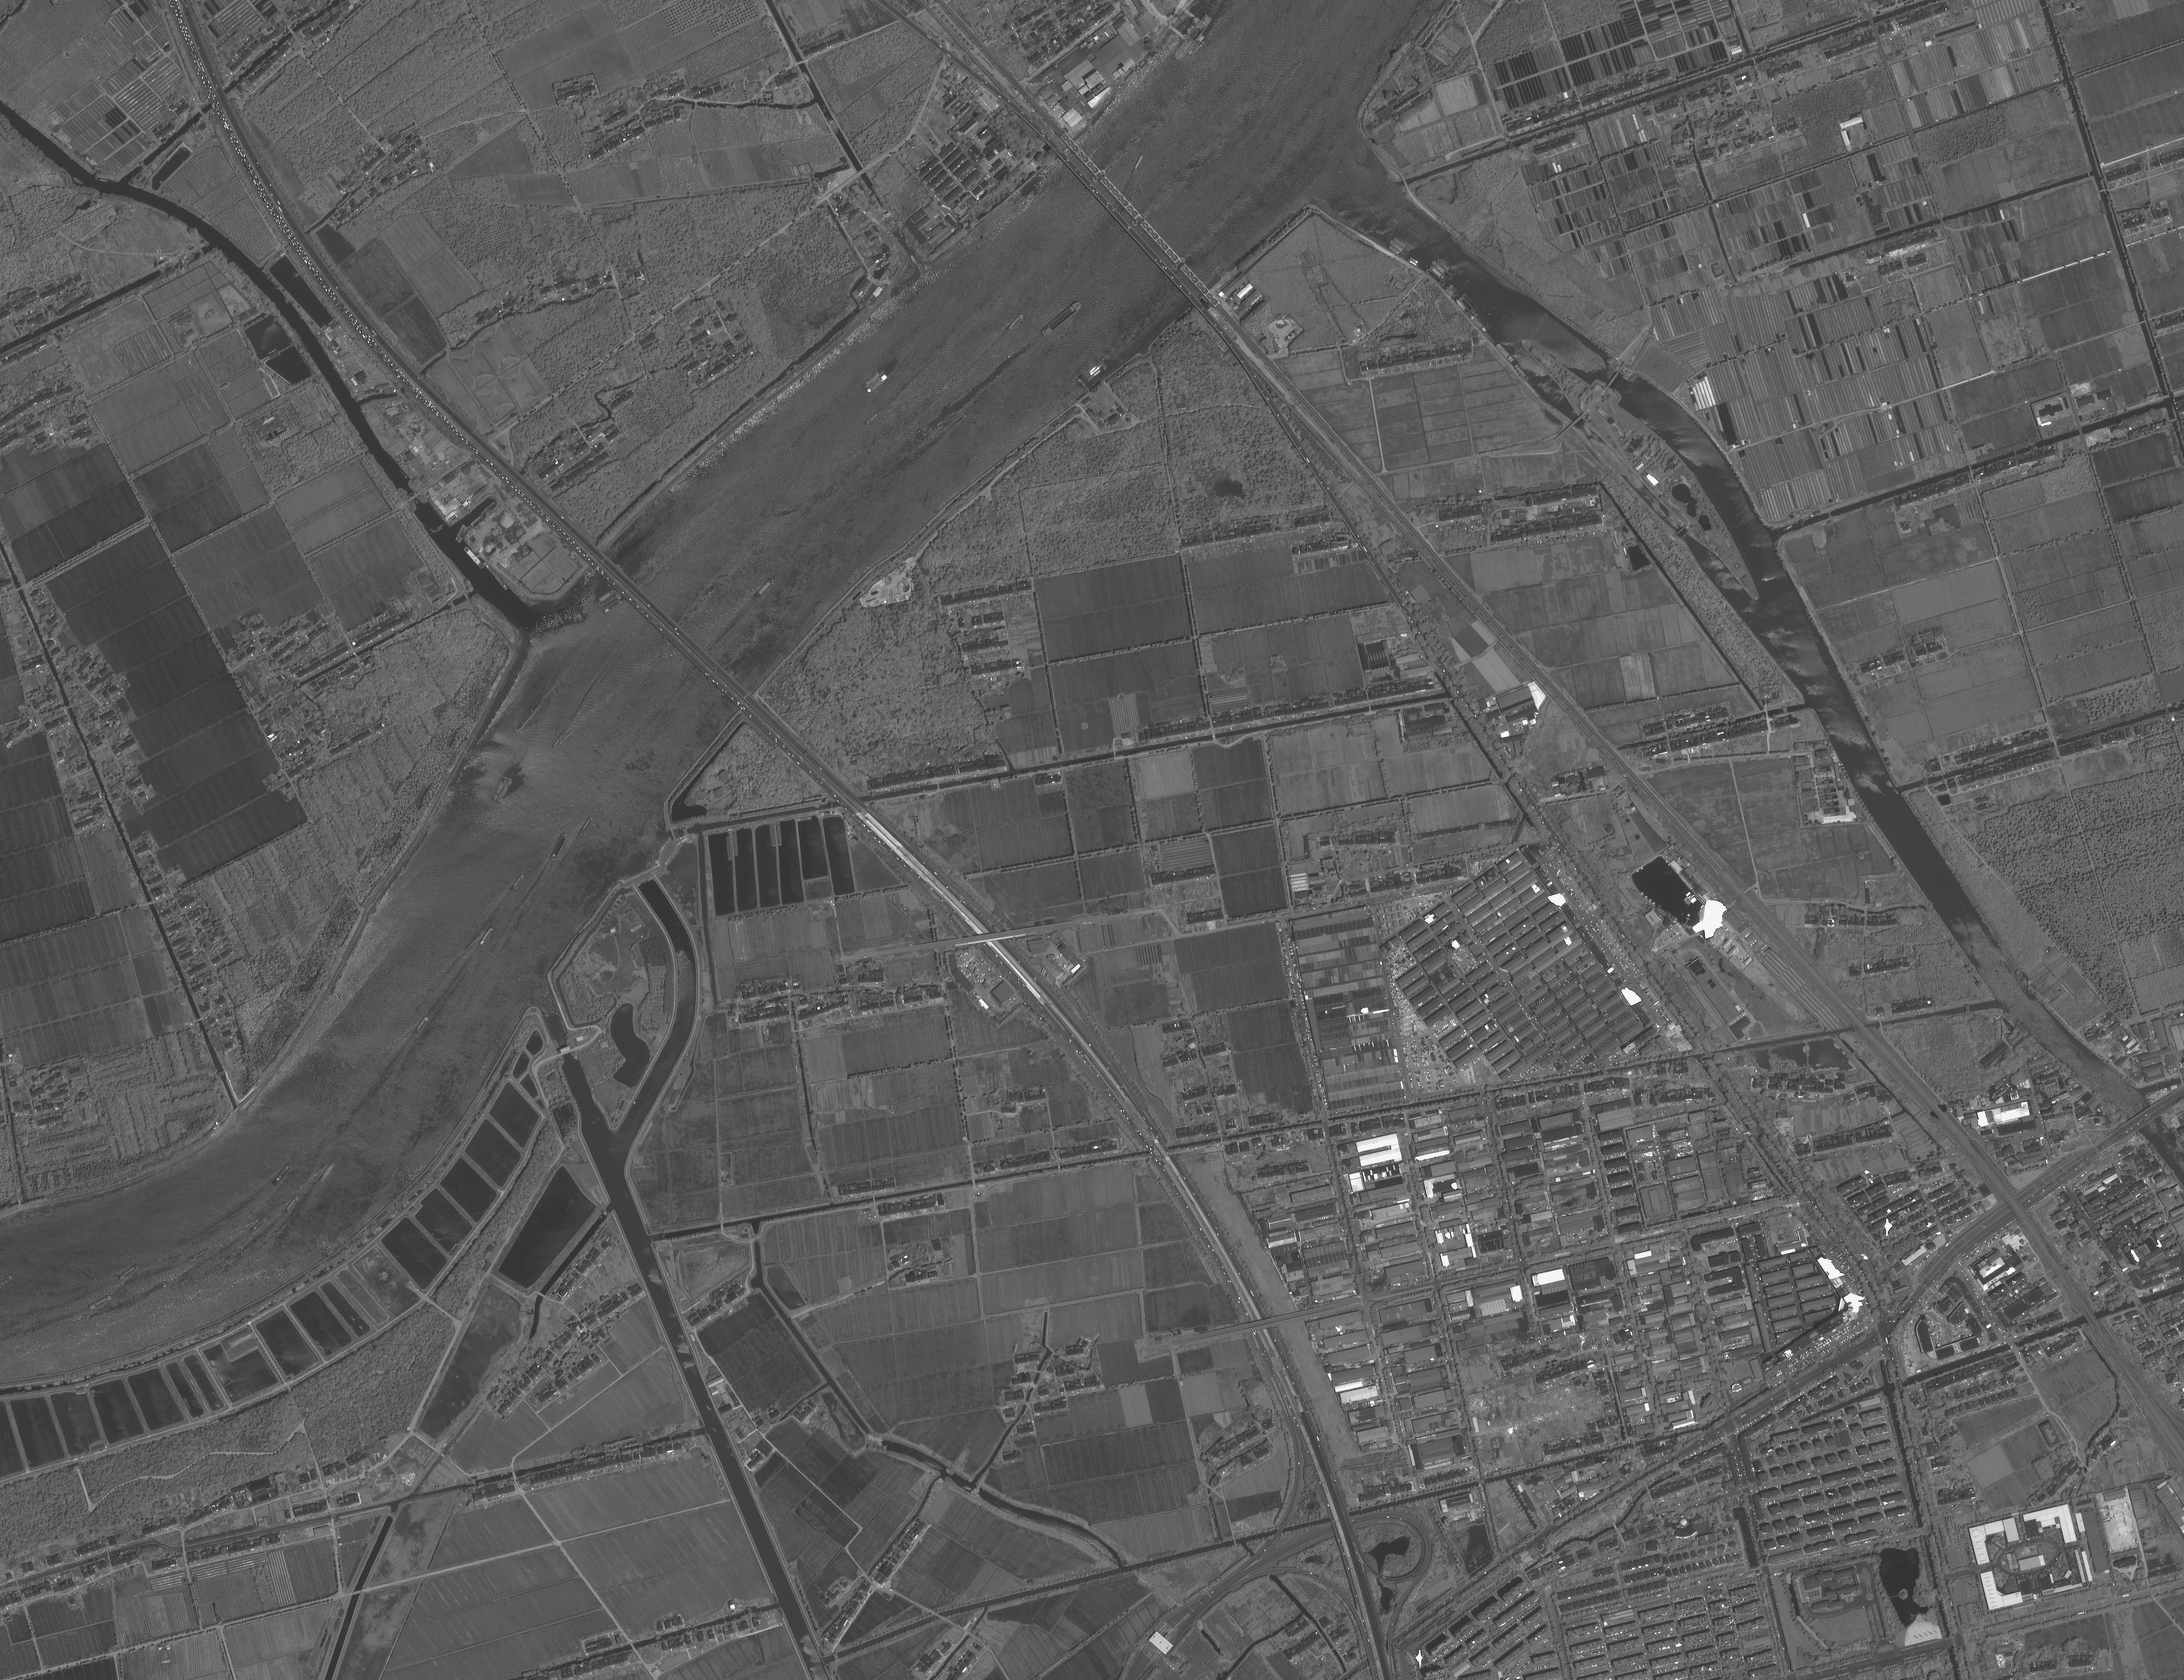ship: (1171, 12, 1214, 64), (1039, 300, 1085, 339), (549, 831, 570, 861), (752, 577, 776, 602), (513, 708, 536, 734), (866, 372, 891, 395), (863, 367, 887, 390), (462, 545, 485, 570), (272, 1163, 293, 1188), (1185, 34, 1207, 56), (1494, 341, 1515, 364), (1431, 259, 1454, 281), (141, 1281, 168, 1299), (496, 776, 513, 803), (593, 588, 616, 607), (411, 1015, 430, 1038), (88, 1294, 113, 1311), (1131, 152, 1147, 178), (492, 775, 508, 801), (1004, 314, 1025, 334), (1436, 258, 1457, 277), (1425, 268, 1447, 288), (116, 1264, 139, 1281), (282, 1195, 300, 1218), (318, 1161, 335, 1184), (187, 1248, 212, 1264), (579, 814, 595, 838), (1473, 312, 1492, 332), (1457, 295, 1477, 314), (1191, 37, 1208, 58), (249, 1216, 268, 1234), (1470, 314, 1487, 334), (1429, 265, 1448, 282), (598, 593, 619, 609), (510, 874, 526, 895), (1392, 236, 1413, 252), (1388, 240, 1410, 256), (480, 499, 497, 517), (1514, 364, 1531, 381), (1462, 293, 1480, 311), (1454, 298, 1471, 316), (602, 595, 621, 611), (478, 926, 494, 946), (550, 732, 566, 752), (1388, 244, 1408, 259), (467, 514, 485, 529), (603, 600, 623, 614), (864, 409, 880, 425), (494, 575, 510, 591), (483, 561, 497, 577), (455, 524, 467, 542), (1087, 369, 1101, 383), (459, 526, 469, 544), (954, 413, 967, 427), (1088, 364, 1103, 376), (0, 1272, 12, 1285), (1408, 259, 1418, 268), (1410, 258, 1420, 265), (99, 178, 108, 184)
